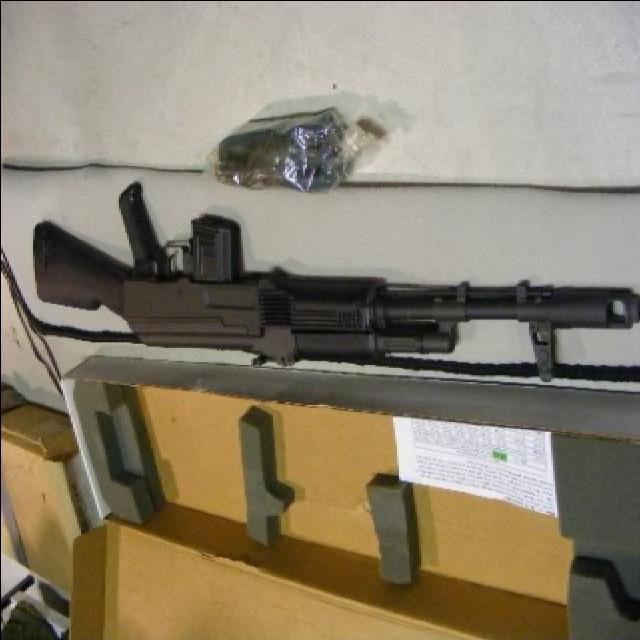rifle: (23, 188, 640, 400)
